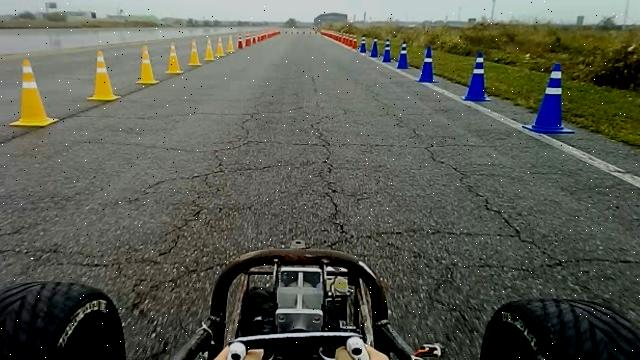blue cone: (522, 62, 576, 134), (462, 51, 492, 102), (415, 44, 439, 82), (396, 38, 411, 70), (382, 38, 392, 62), (370, 38, 379, 58), (359, 36, 367, 54)
yellow cone: (9, 58, 59, 127), (86, 49, 122, 102), (136, 44, 160, 85), (165, 42, 184, 74), (188, 39, 202, 66), (203, 37, 216, 61), (215, 35, 226, 57), (226, 34, 236, 53)
